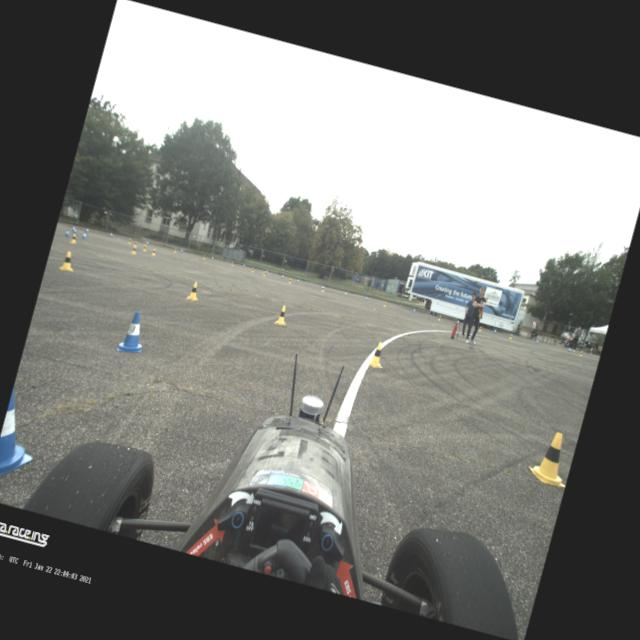blue_cone: (0, 384, 49, 492), (116, 308, 150, 357), (62, 226, 72, 238), (80, 230, 88, 240), (70, 225, 76, 232), (84, 226, 90, 233), (73, 226, 78, 234), (108, 231, 113, 238), (567, 345, 571, 352), (178, 248, 182, 254), (296, 278, 300, 284), (412, 307, 416, 313), (535, 338, 539, 344), (145, 240, 149, 245), (242, 263, 246, 268), (264, 269, 268, 274), (210, 256, 214, 260), (280, 274, 284, 278), (364, 296, 368, 300), (493, 328, 496, 333), (320, 285, 322, 290)
yellow_cone: (526, 427, 578, 488), (368, 340, 388, 368), (58, 249, 78, 273), (273, 304, 290, 326), (186, 280, 202, 302), (68, 232, 79, 244), (130, 243, 138, 254), (151, 248, 157, 256), (142, 244, 148, 252), (126, 237, 132, 245), (436, 314, 442, 322), (132, 240, 138, 247), (578, 349, 584, 356), (287, 277, 292, 284), (382, 300, 387, 307), (172, 247, 177, 253), (143, 240, 147, 246), (202, 254, 206, 260), (230, 260, 234, 266), (250, 266, 254, 272), (262, 270, 266, 276), (320, 286, 324, 292), (478, 326, 482, 332), (508, 334, 512, 339)
